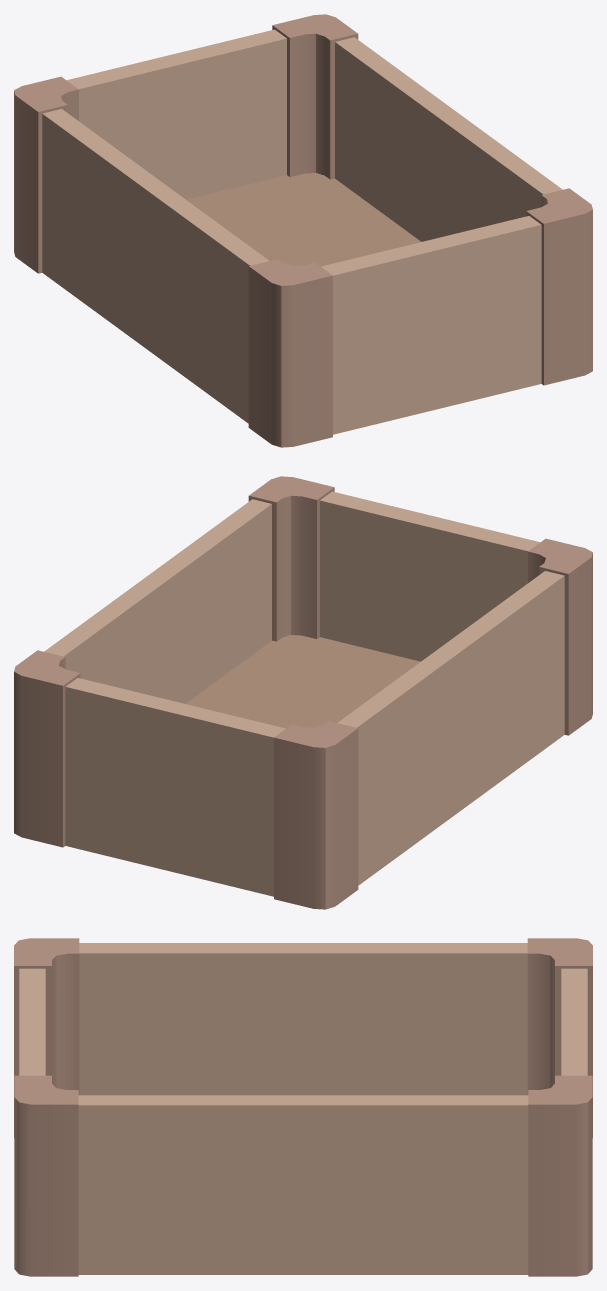
File: wooden cart (1).fbx
The picture shows the model from 3 angles, top to bottom: view 1: azimuth 30°, elevation 25°; view 2: azimuth 150°, elevation 25°; view 3: azimuth 270°, elevation 25°; orthographic projection. The views are drawn at different scales.
Visible parts, largest first — view 1: pCube4; view 2: pCube4; view 3: pCube4.
Boxes of the visible parts, bbox=[...] form: pCube4: bbox=[14, 14, 592, 447]; pCube4: bbox=[14, 476, 592, 909]; pCube4: bbox=[14, 938, 592, 1276].
Bounding box in the file's own units: 12.55 × 6.06 × 18.46.
